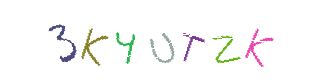3: (63, 0, 143, 80)
K: (87, 0, 167, 80), (216, 0, 296, 80)
T: (117, 0, 197, 80)
U: (111, 0, 191, 80)
Y: (103, 0, 183, 80)
Z: (125, 0, 205, 80)
